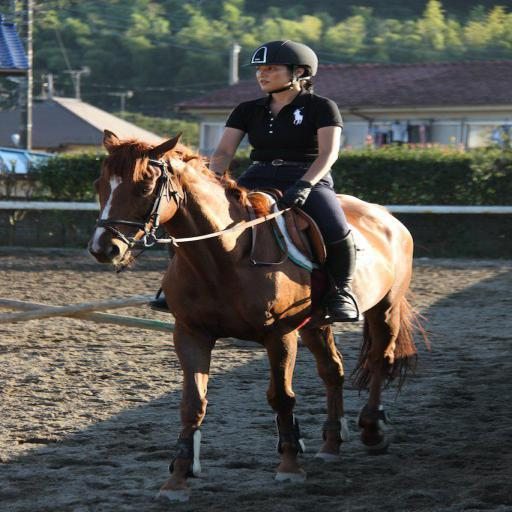Horse: (84, 126, 432, 510)
